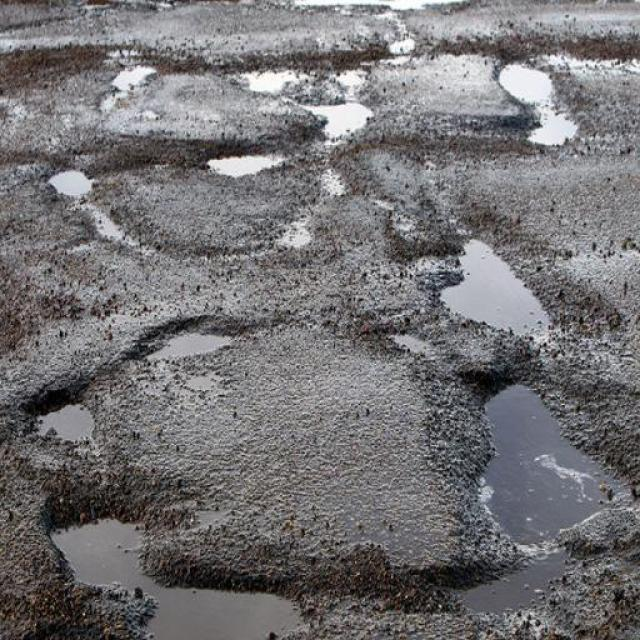puddle: (467, 384, 617, 609), (442, 217, 561, 363), (53, 507, 158, 617), (506, 57, 594, 162)
